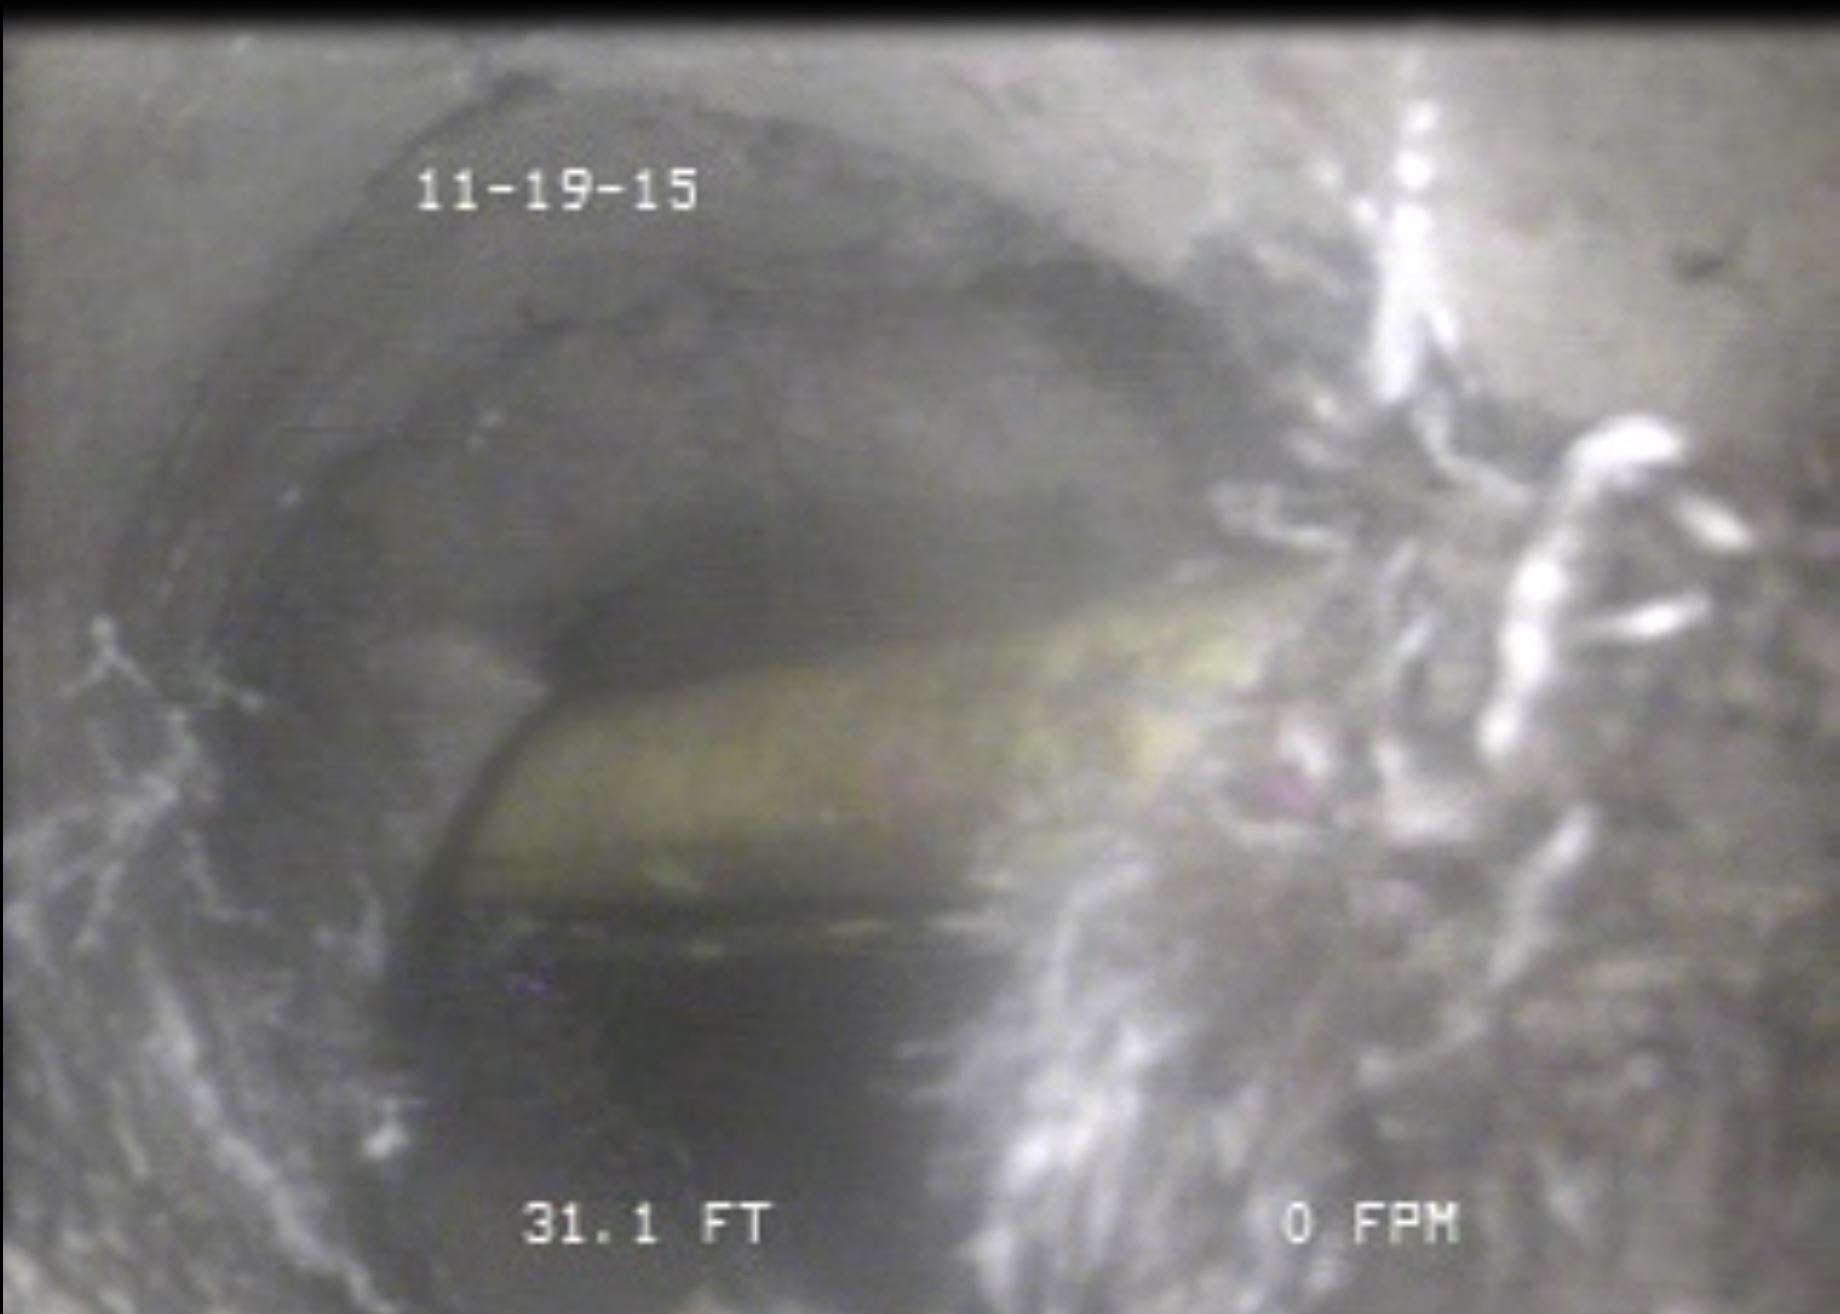cb: (323, 539, 1497, 968)
